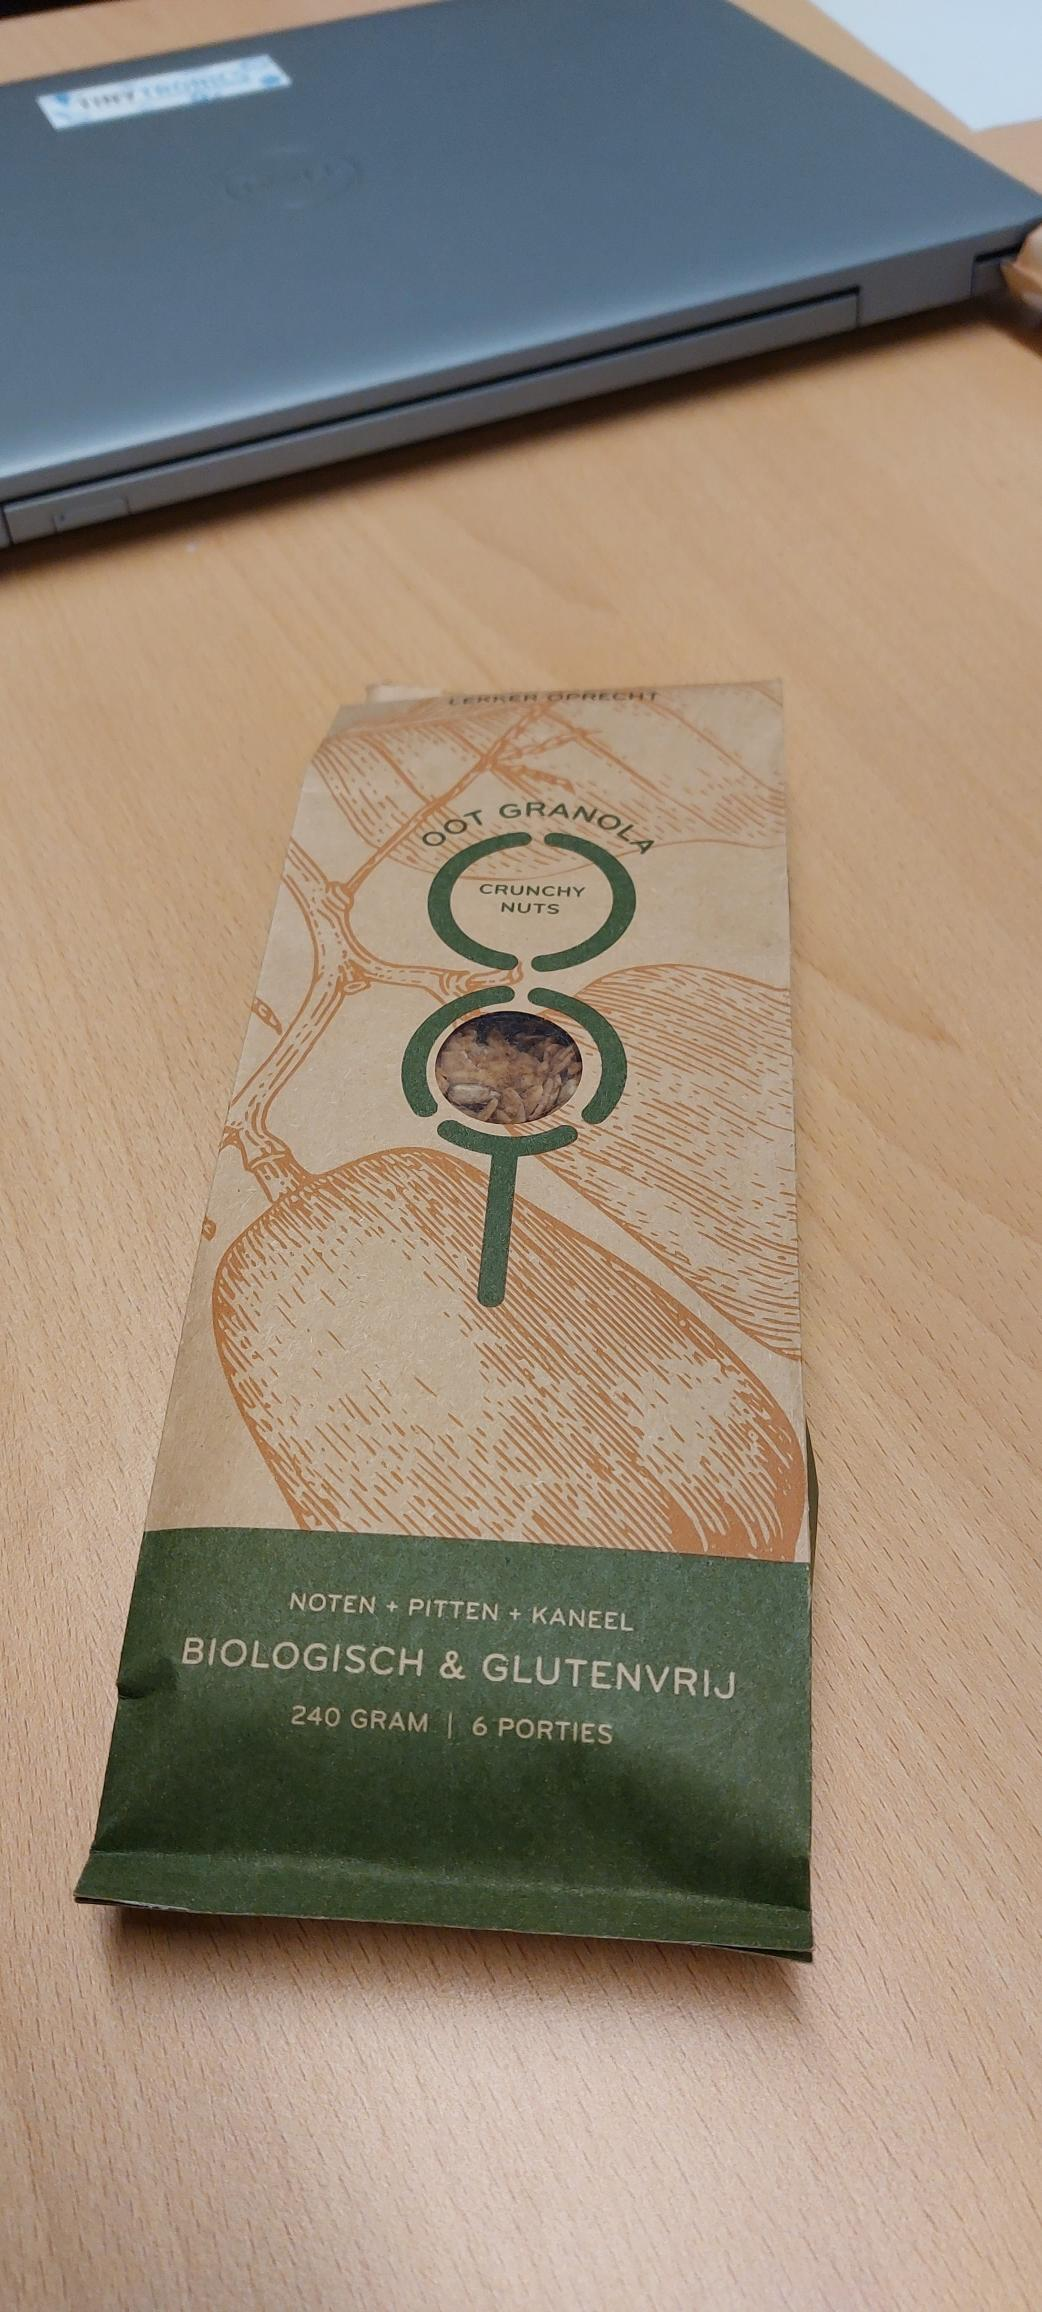CrunchyNuts: (150, 702, 786, 1907)
